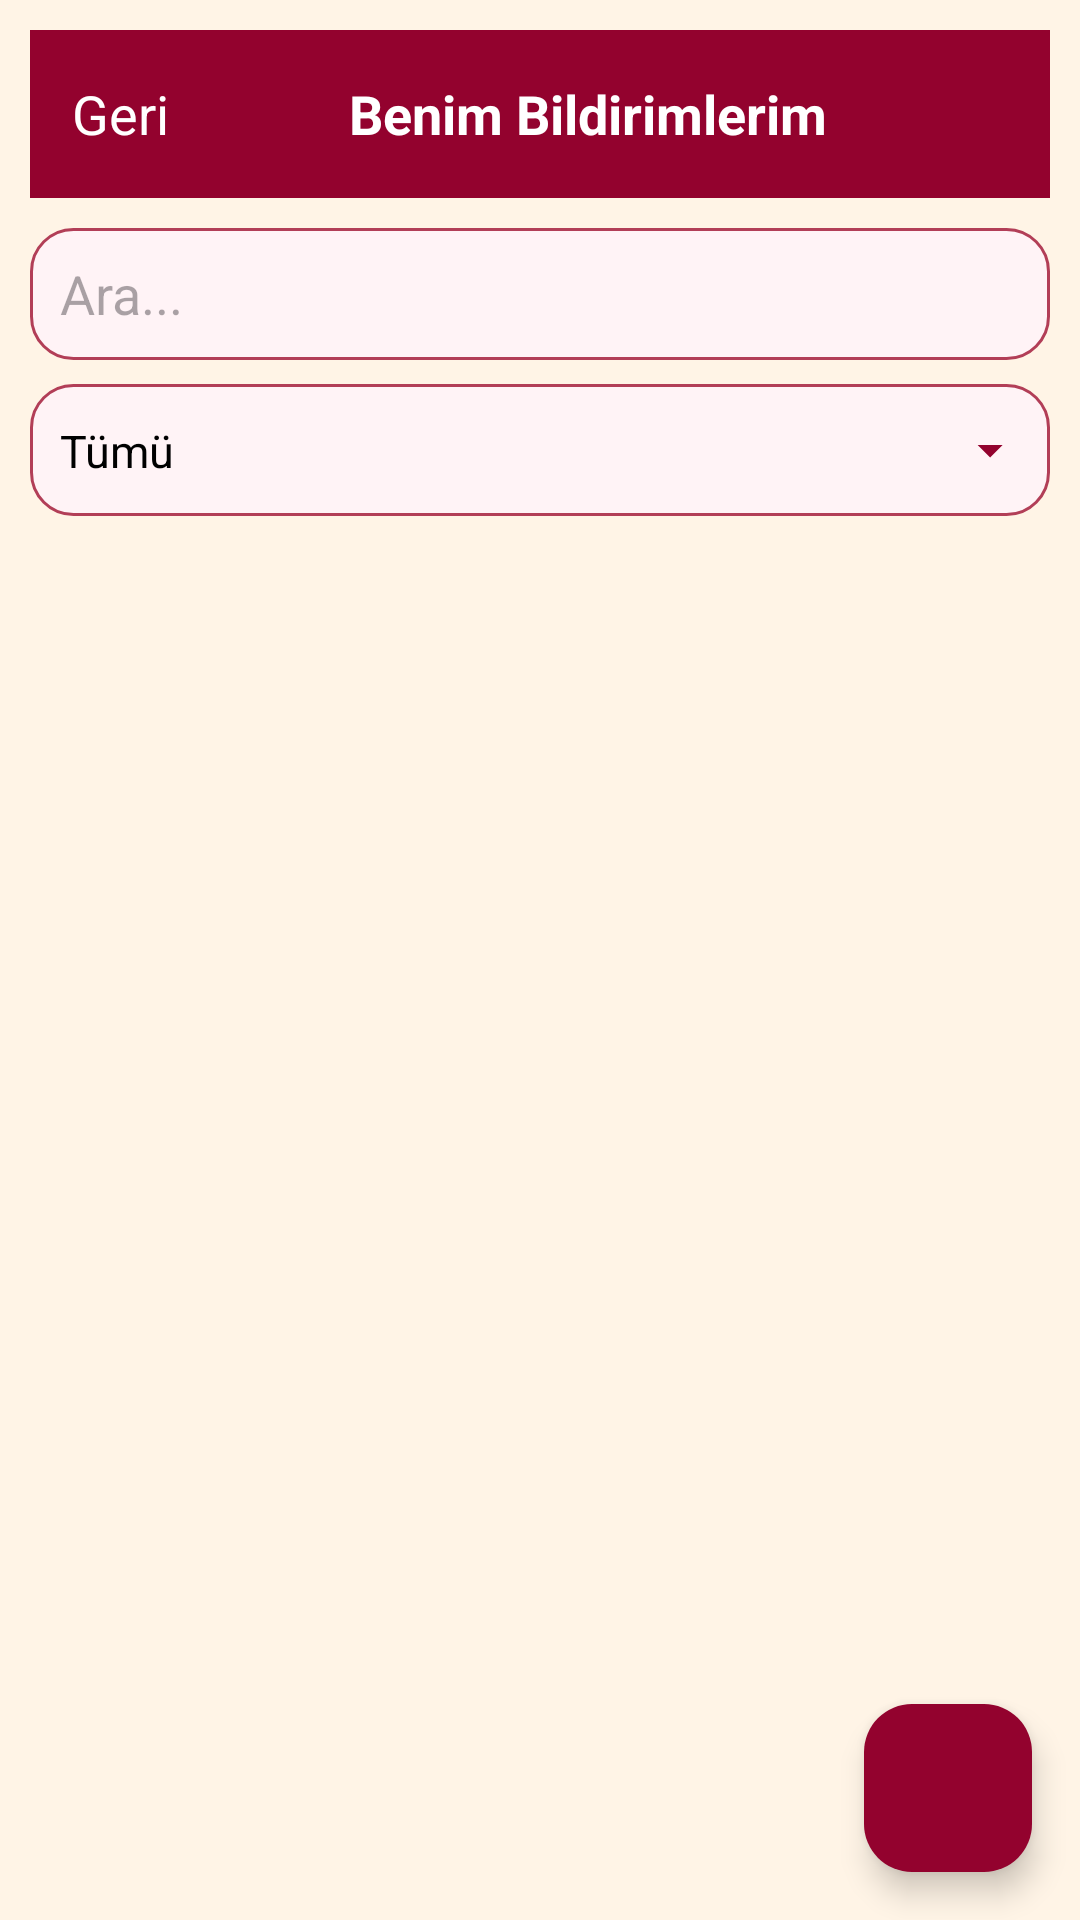

Icons on this 1080*1920 Android screen, each with the point to tap as [x,y]:
arrow down: [990,451]
